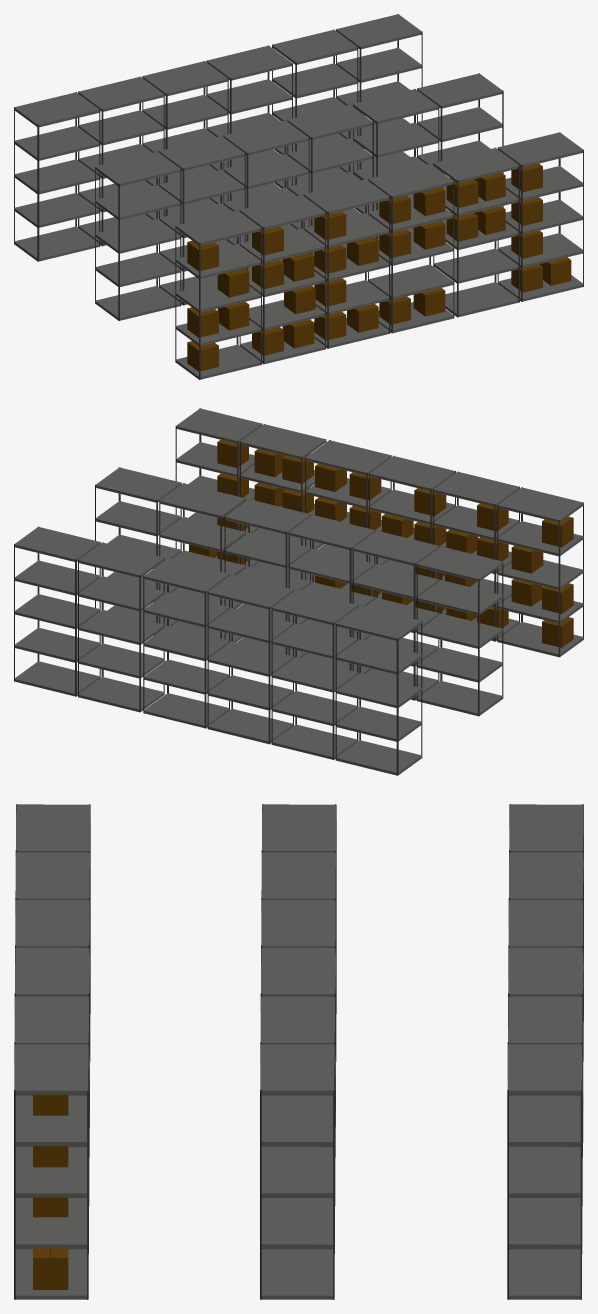
The model's file is ArmarioComCaixa.fbx.
3 renders of one model, top to bottom at view 1: azimuth 30°, elevation 25°; view 2: azimuth 150°, elevation 25°; view 3: azimuth 270°, elevation 25°, orthographic. The views are drawn at different scales.
Parts seen in each view (by area): view 1: estantes.002, estantes.003, estantes.001, Caixa.013, Caixa.049, Caixa.037, Caixa.036, Caixa.042, Caixa.018, Caixa.044, Caixa.005, Caixa.034 (+23 smaller); view 2: estantes.003, estantes.001, estantes.002, Caixa.013, Caixa.049, Caixa.037, Caixa.036, Caixa.042, Caixa.004, Caixa.006, Caixa.008, Caixa.010 (+13 smaller); view 3: estantes.003, estantes.001, estantes.002, Caixa.038, Caixa.002, Caixa.015, Caixa.027.
Part boxes in pixels (x1,y1,x2,y2): estantes.002: (175,132,583,379); estantes.003: (14,14,422,261); estantes.001: (95,73,503,320); Caixa.013: (187,240,218,271); Caixa.049: (187,341,218,371); Caixa.037: (187,307,218,337); Caixa.036: (217,268,249,297); Caixa.042: (413,187,445,216); Caixa.018: (413,221,445,249); Caixa.044: (347,237,378,265); Caixa.005: (413,288,445,316); Caixa.034: (282,252,314,281); estantes.003: (14,526,422,775); estantes.001: (95,467,503,716); estantes.002: (175,408,583,657); Caixa.013: (542,516,573,547); Caixa.049: (542,617,573,647); Caixa.037: (542,583,573,613); Caixa.036: (511,545,543,573); Caixa.042: (315,464,346,491); Caixa.004: (282,454,313,483); Caixa.006: (349,472,381,500); Caixa.008: (414,488,446,516); Caixa.010: (477,503,508,531); estantes.003: (507,804,583,1299); estantes.001: (260,804,336,1299); estantes.002: (14,804,90,1299); Caixa.038: (33,1248,68,1289); Caixa.002: (33,1094,68,1115); Caixa.015: (33,1146,68,1167); Caixa.027: (33,1197,68,1217).
Bounding box in the file's own units: 1562 × 532 × 1312.
